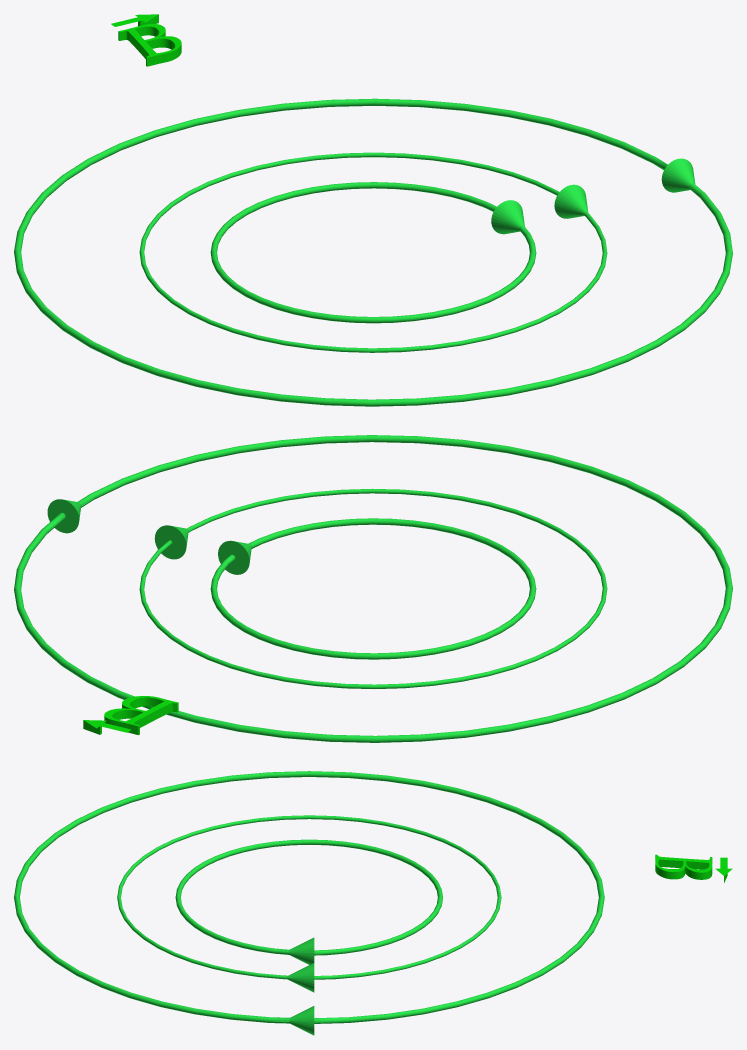
File: campo1.dae
3 renders of one model, top to bottom at view 1: azimuth 30°, elevation 25°; view 2: azimuth 150°, elevation 25°; view 3: azimuth 270°, elevation 25°, orthographic. The views are drawn at different scales.
Parts seen in each view (by area): view 1: BezierCircle, BezierCircle.001, Cone.002, Alambre-recto.001; view 2: BezierCircle, BezierCircle.001, Cone.002, Alambre-recto.001; view 3: BezierCircle, BezierCircle.001, Cone.002, Alambre-recto.001.
Part boxes in pixels (x1,y1,x2,y2): BezierCircle: (14,98,732,406); BezierCircle.001: (139,152,607,352); Cone.002: (210,182,536,323); Alambre-recto.001: (111,14,181,66); BezierCircle: (14,435,732,742); BezierCircle.001: (139,488,607,689); Cone.002: (210,518,536,659); Alambre-recto.001: (83,696,178,735); BezierCircle: (14,771,604,1035); BezierCircle.001: (117,815,501,992); Cone.002: (175,839,442,964); Alambre-recto.001: (655,854,732,882).
Size of the model in its own units: 2.06 by 2.46 by 0.1895.
